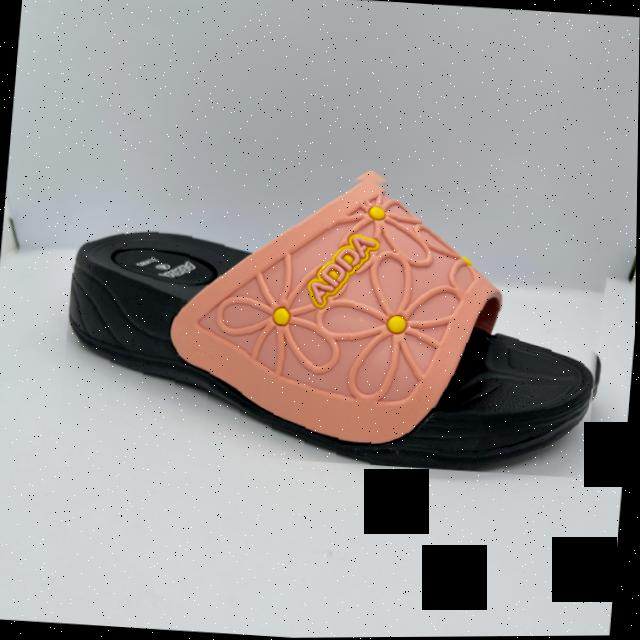shoe: (58, 150, 617, 483)
